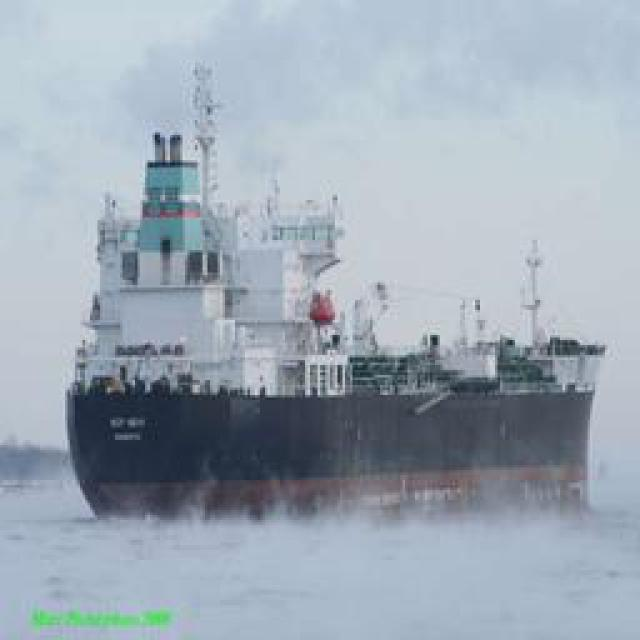Ship: (83, 77, 588, 517)
